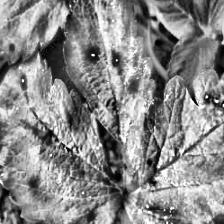Leaf Spot: (0, 49, 122, 223), (61, 0, 156, 188), (119, 64, 224, 224), (0, 0, 78, 66)
